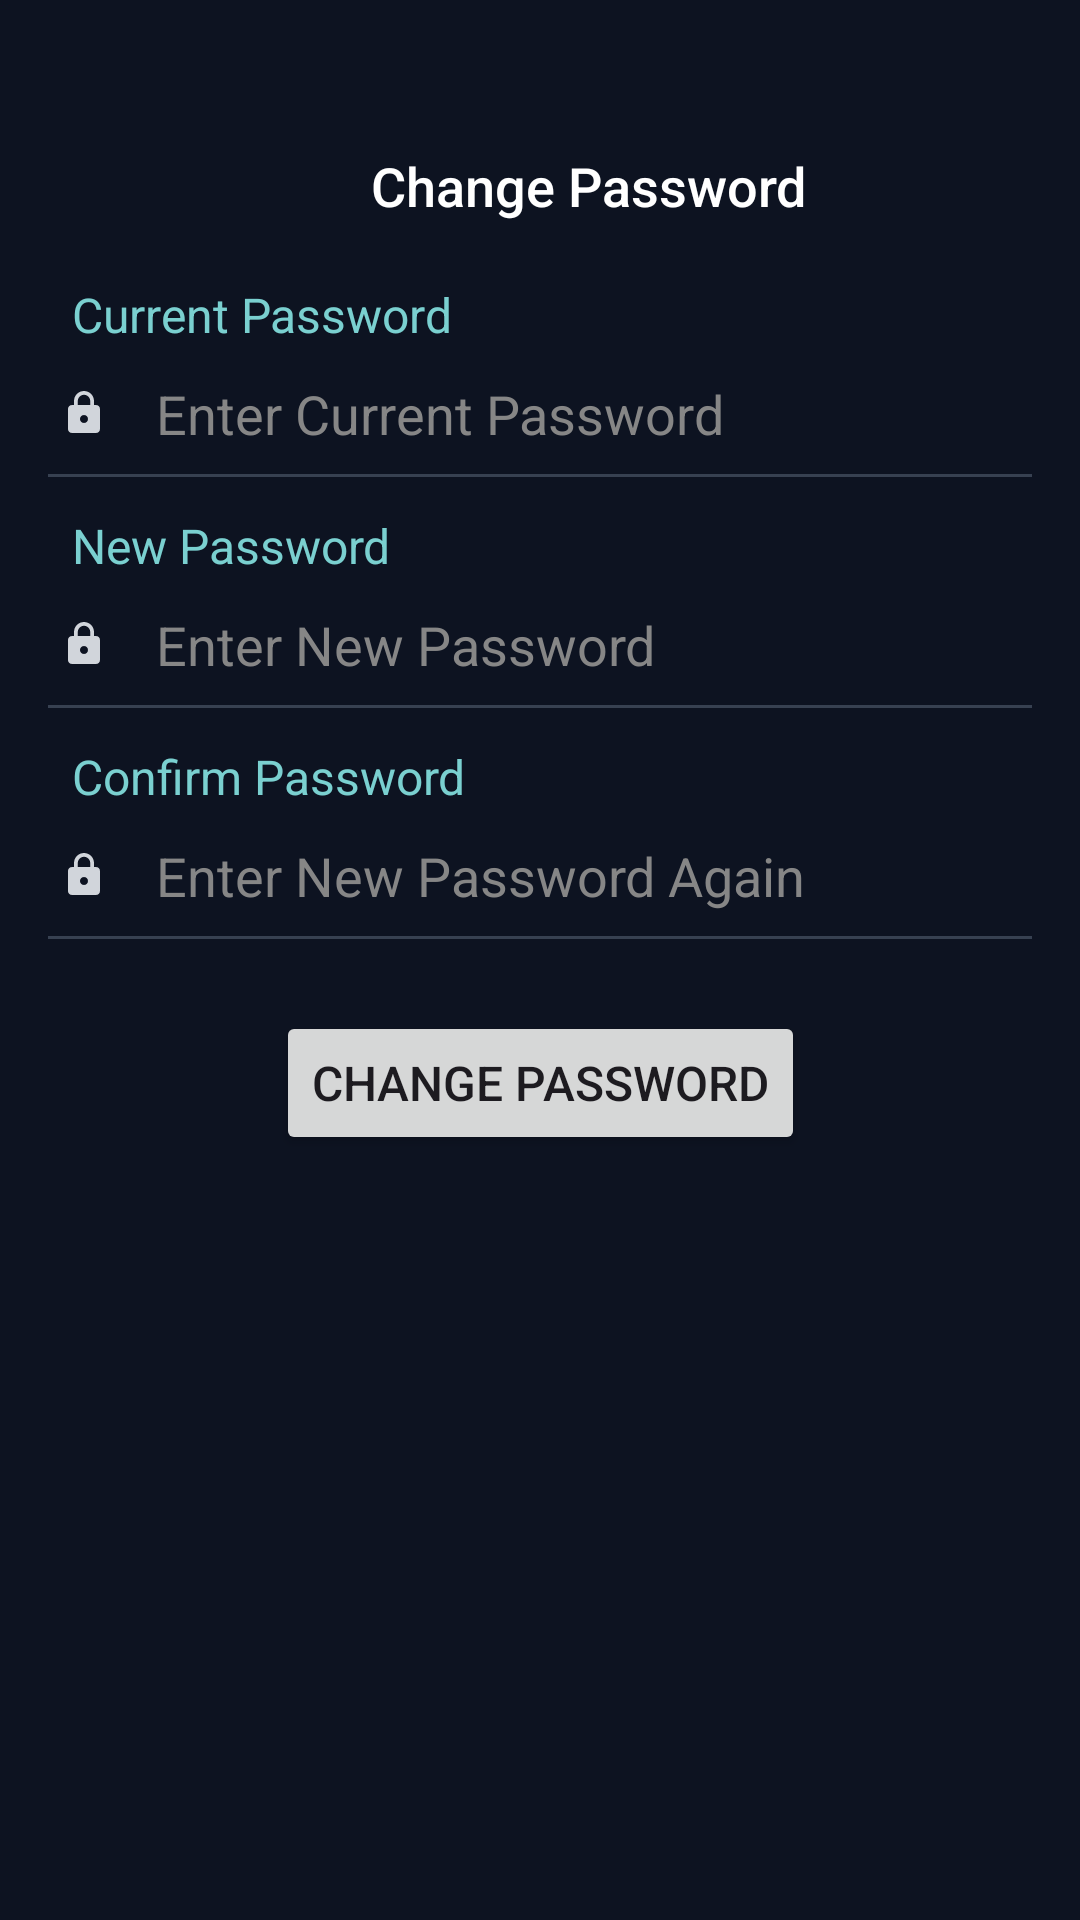

Icon bounding boxes for this 1080px x 1920px phone screenshot, format (x1, y1, x2, y2):
lock: (68, 391, 100, 433), (68, 622, 100, 664), (68, 853, 100, 895)
